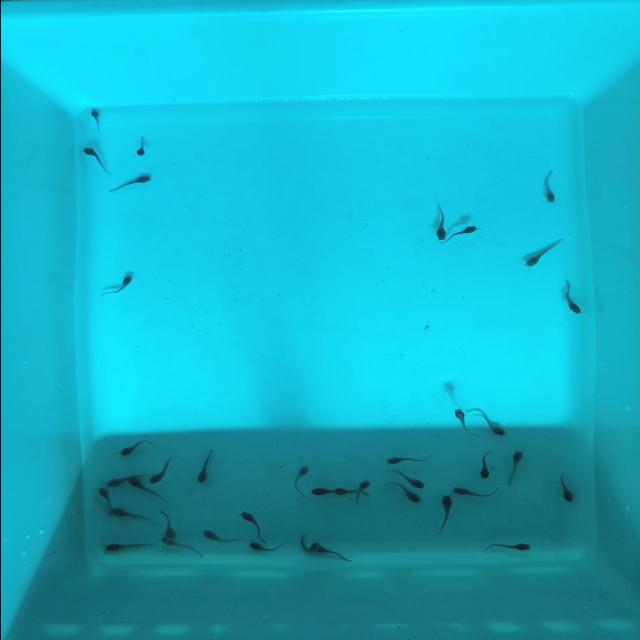lele: (522, 234, 566, 270), (379, 475, 426, 508), (77, 142, 117, 178), (466, 407, 509, 439), (436, 221, 483, 250), (385, 466, 433, 494), (126, 475, 169, 504), (237, 508, 271, 543), (448, 406, 481, 441), (158, 534, 206, 558), (98, 274, 137, 303), (147, 453, 180, 486), (308, 540, 354, 563), (501, 445, 526, 487), (558, 278, 585, 316), (108, 174, 153, 196), (198, 528, 246, 548), (102, 472, 152, 490), (195, 447, 217, 484), (288, 463, 310, 498), (437, 494, 455, 535), (107, 507, 152, 523), (101, 541, 155, 554), (554, 471, 575, 504), (117, 438, 153, 457), (85, 106, 109, 134), (350, 477, 373, 506), (386, 453, 437, 466), (158, 507, 178, 539), (94, 485, 117, 511), (475, 446, 492, 481), (540, 169, 557, 203), (451, 487, 503, 498), (434, 201, 447, 242), (297, 530, 316, 555), (482, 543, 533, 552), (248, 542, 290, 552), (333, 485, 371, 496), (309, 486, 336, 497), (135, 135, 147, 157)
